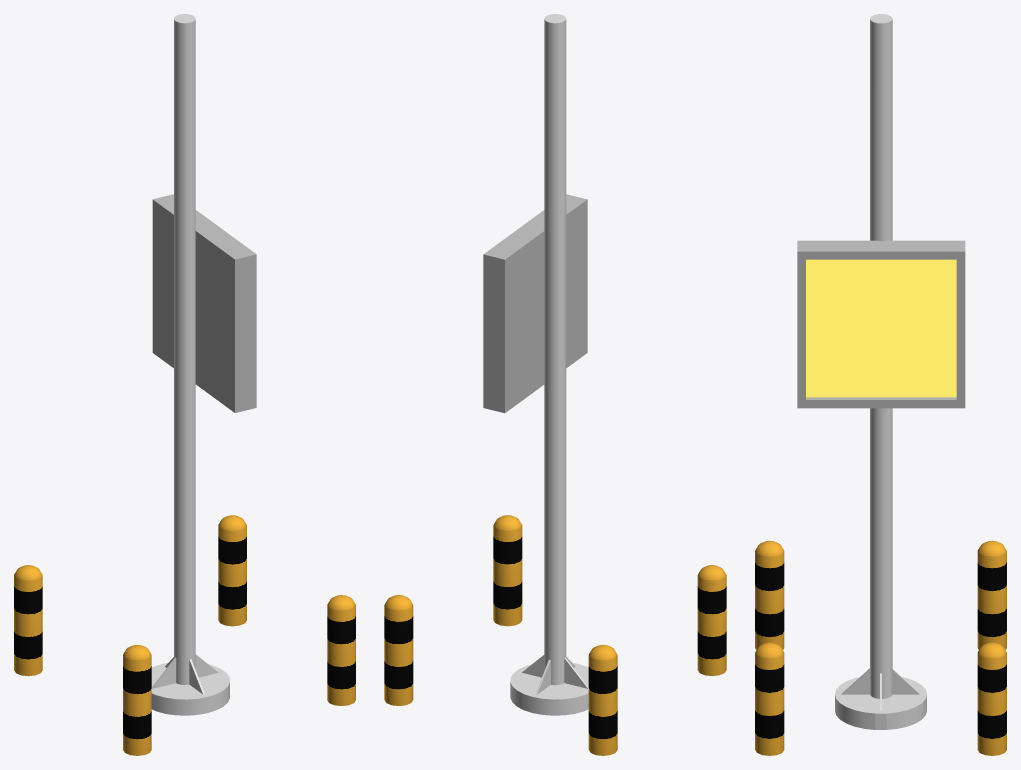
File: oerk_gate_si_t5s.gltf
3 views of the same model, side by side, from view 1: azimuth 30°, elevation 25°; view 2: azimuth 150°, elevation 25°; view 3: azimuth 270°, elevation 25° (orthographic). The views are drawn at different scales.
Parts seen in each view (by area): view 1: Cylinder.001, Cube.012, Sphere, Cube.001; view 2: Cylinder.001, Cube.012, Sphere, Cube.001; view 3: Cube.012, Sphere, Cylinder.001, Cube.001.
Boxes of the visible parts, <box> form: Cylinder.001: <box>174,14,195,684</box>; Cube.012: <box>152,194,256,412</box>; Sphere: <box>14,515,355,755</box>; Cube.001: <box>151,654,229,715</box>; Cylinder.001: <box>544,14,566,685</box>; Cube.012: <box>483,194,587,413</box>; Sphere: <box>384,515,726,755</box>; Cube.001: <box>510,655,588,715</box>; Cube.012: <box>797,240,965,408</box>; Sphere: <box>755,540,1006,755</box>; Cylinder.001: <box>870,14,892,698</box>; Cube.001: <box>835,668,926,729</box>.
Bounding box in the file's own units: 2.23 × 6.32 × 2.08.
Materials: 3 (1 with a texture image).
